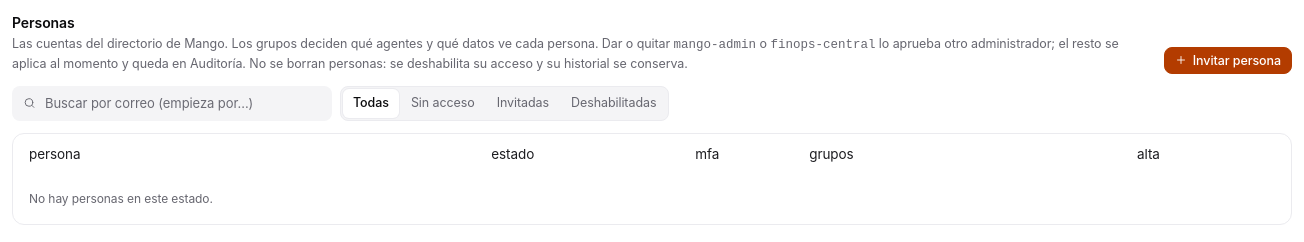
Test case: Ajustes › Personas (design people.jsx) › says why a list is empty, and asks nothing for a prefix no email can start with
Check: the text "No hay personas en este estado." is shown, box 29,191 -> 213,206
Click the button "Sin acceso". click: (443, 103)
box: 401,88 -> 485,118
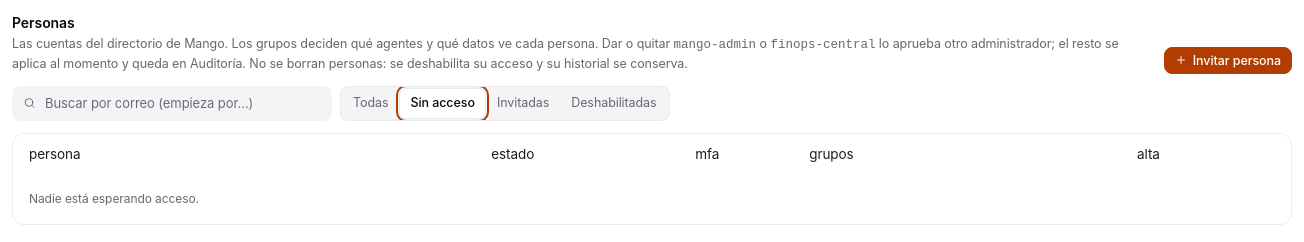
Check: the text "Nadie está esperando acceso." is shown, box 29,191 -> 199,206
Type "a\"b" into the search field labelled "Buscar por correo". click: (172, 103)
box: 12,86 -> 332,121
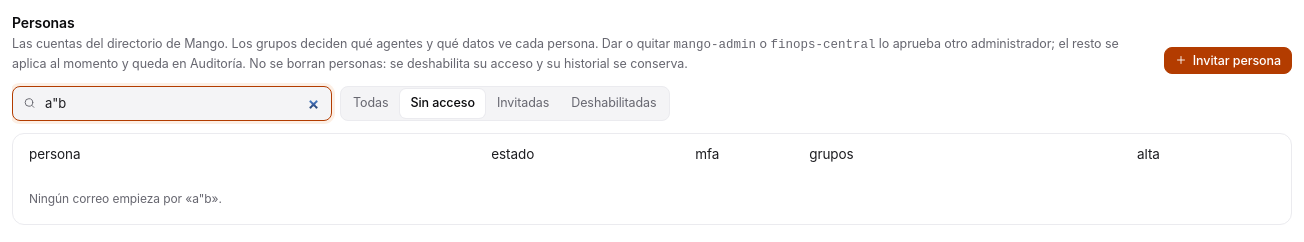
Check: the text "Ningún correo empieza por «a\"b»." is shown, box 29,191 -> 222,206
